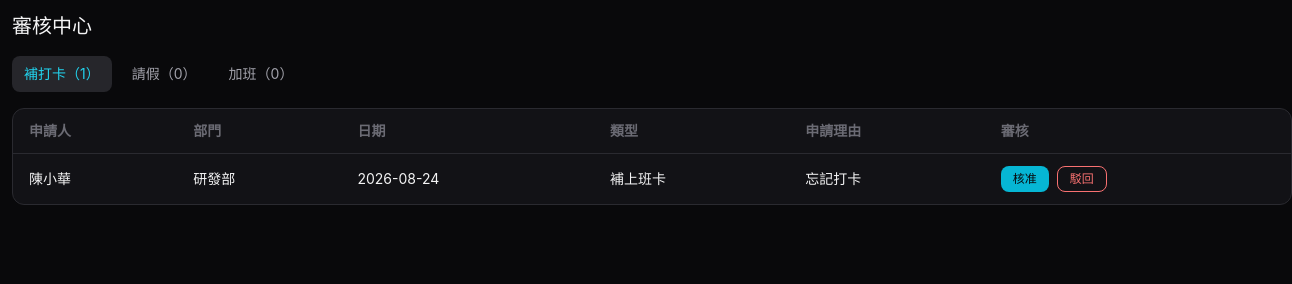
遇到 409 時顯示提示並重新載入清單
The width and height of the screenshot is (1292, 284).
Click the button "核准".
click(1025, 179)  # box [1001,166,1049,192]
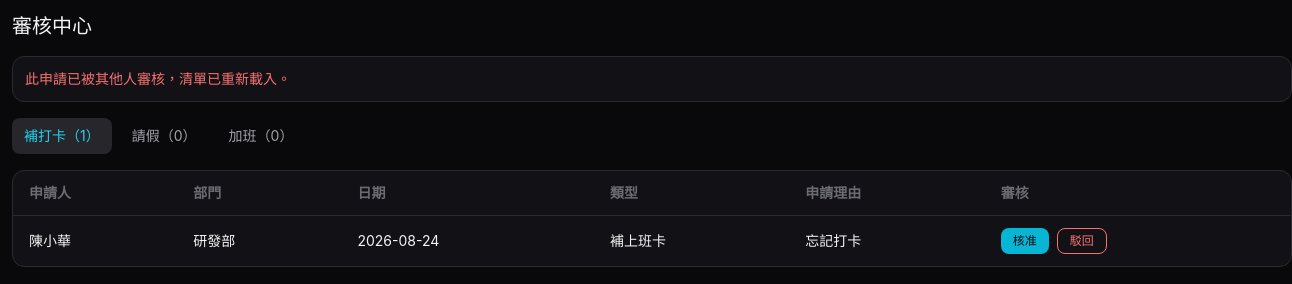
Check: the text "此申請已被其他人審核，清單已重新載入。" is shown, box [12,56,1291,102]
